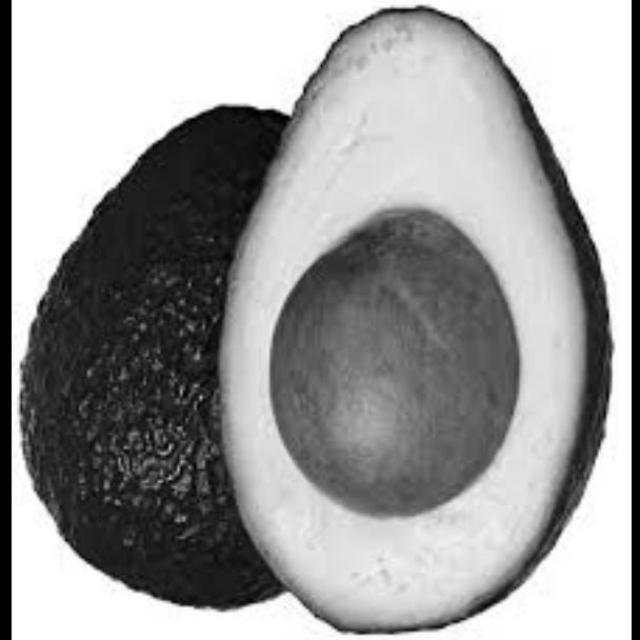bo: (209, 0, 623, 638), (10, 32, 268, 629)
